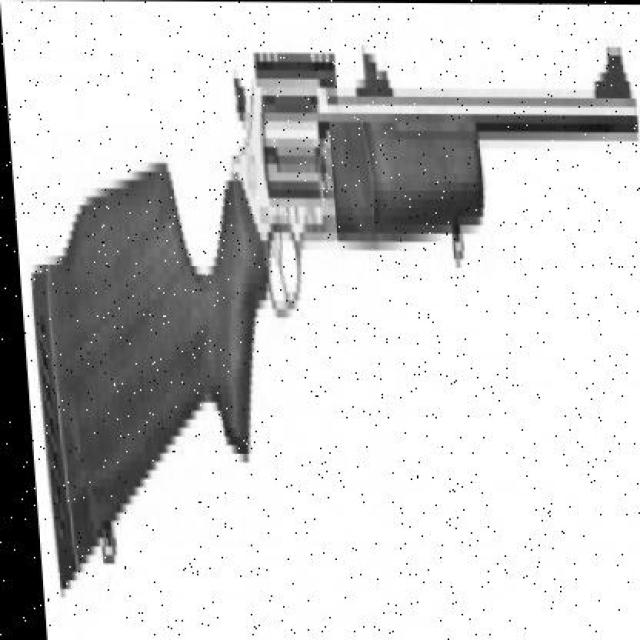weapon: (31, 44, 640, 594)
